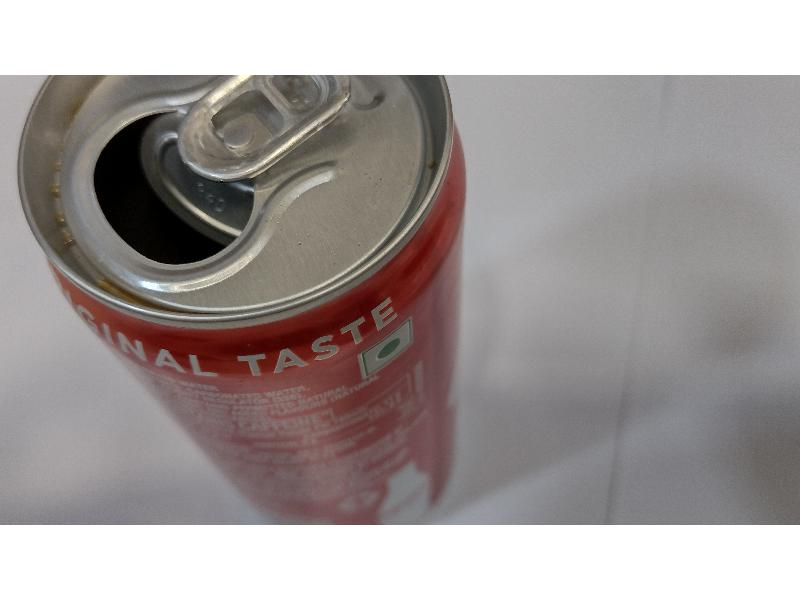can: (17, 77, 471, 519)
